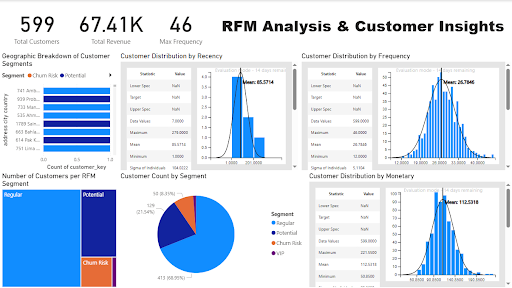

The page's visual inventory and layout, read from the dashboard file:
{"tool":"powerbi","page":{"name":"RFM","canvas":[1280,720],"ordinal":3},"visuals":[{"type":"histogram42E8DF98F1244DB799B2A8A65DBCB226","title":"Customer Distribution by Recency","fields":{"axis":["RecencyTable.Recency"],"datavalues":["RecencyTable.customer_key"]},"box":[295.2,128.2,452.2,299.5],"z":0},{"type":"histogram42E8DF98F1244DB799B2A8A65DBCB226","title":"Customer Distribution by Frequency","fields":{"axis":["RFMTable.customer_key"],"datavalues":["Sum(RFMTable.Frequency)"]},"box":[747.4,128.2,532.8,299.5],"z":1000},{"type":"histogram42E8DF98F1244DB799B2A8A65DBCB226","title":"Customer Distribution by Monetary","fields":{"axis":["MonetaryTable.customer_key"],"datavalues":["Sum(RFMTable.Monetary)"]},"box":[766.1,427.7,514.1,292.3],"z":2000},{"type":"pieChart","title":"Customer Count by Segment ","fields":{"Category":["RFMTable.Segment"],"Y":["CountNonNull(RFMTable.customer_key)"]},"box":[295.2,427.7,470.9,292.3],"z":3000},{"type":"barChart","title":"Geographic Breakdown of Customer Segments","fields":{"Y":["CountNonNull(RFMTable.customer_key)"],"Category":["dim_customer.address","dim_customer.city","dim_customer.country"],"Series":["RFMTable.Segment"]},"box":[0,128.2,295.2,299.5],"z":4000},{"type":"treemap","title":"Number of Customers per RFM Segment","fields":{"Group":["RFMTable.Segment"],"Values":["CountNonNull(RFMTable.customer_key)"]},"box":[0,427.7,295.2,292.3],"z":5000},{"type":"card","fields":{"Values":["Count(RFMTable.customer_key)"]},"box":[0,0,182.9,128.2],"z":6000},{"type":"card","fields":{"Values":["Sum(RFMTable.Monetary)"]},"box":[182.9,0,187.2,128.2],"z":7000},{"type":"card","fields":{"Values":["RFMTable.Frequency_Max"]},"box":[370.1,0,161.3,128.2],"z":8000},{"type":"textbox","box":[531.4,31.7,748.8,96.5],"z":9000}]}

Visuals, with their boxes in screenshot pixels (x1, y1, x2, y2), scaled from the page's 1280x720 canvas onto the 512x288 screenshot:
"Customer Distribution by Recency" histogram42E8DF98F1244DB799B2A8A65DBCB226: [x1=118, y1=51, x2=299, y2=171]
"Customer Distribution by Frequency" histogram42E8DF98F1244DB799B2A8A65DBCB226: [x1=299, y1=51, x2=511, y2=171]
"Customer Distribution by Monetary" histogram42E8DF98F1244DB799B2A8A65DBCB226: [x1=306, y1=171, x2=511, y2=287]
"Customer Count by Segment " pieChart: [x1=118, y1=171, x2=306, y2=287]
"Geographic Breakdown of Customer Segments" barChart: [x1=0, y1=51, x2=118, y2=171]
"Number of Customers per RFM Segment" treemap: [x1=0, y1=171, x2=118, y2=287]
card - Count(RFMTable.customer_key): [x1=0, y1=0, x2=73, y2=51]
card - Sum(RFMTable.Monetary): [x1=73, y1=0, x2=148, y2=51]
card - RFMTable.Frequency_Max: [x1=148, y1=0, x2=213, y2=51]
textbox: [x1=213, y1=13, x2=511, y2=51]
